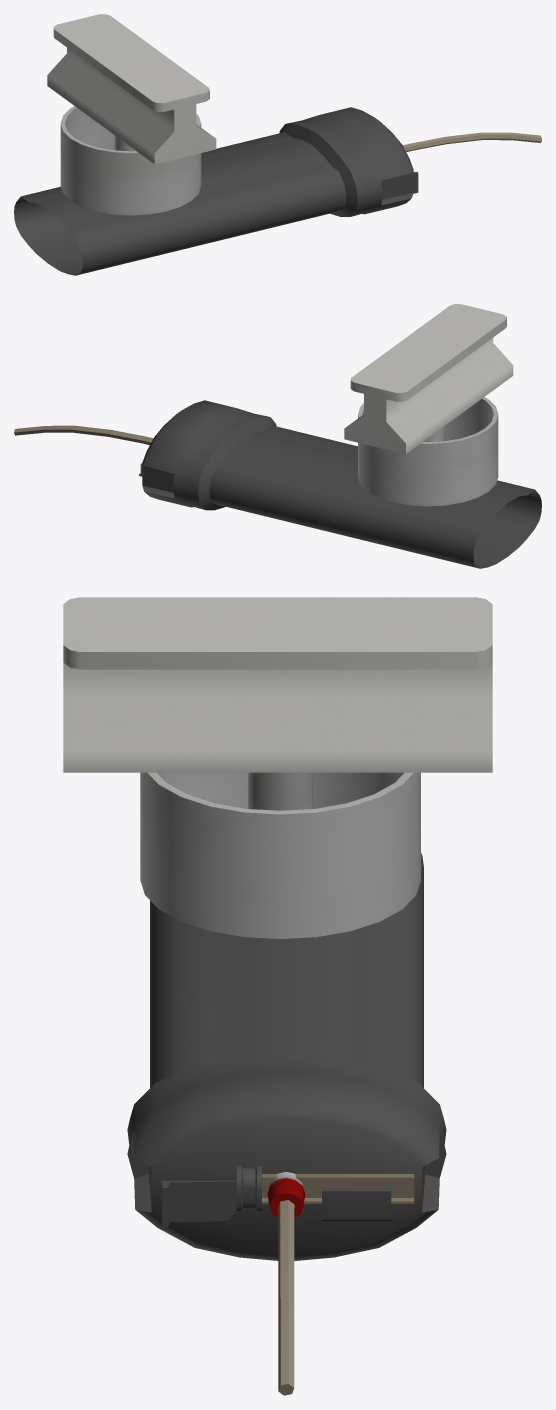
File: SM_光谱仪_燃烧头.FBX
The picture shows the model from 3 angles, top to bottom: view 1: azimuth 30°, elevation 25°; view 2: azimuth 150°, elevation 25°; view 3: azimuth 270°, elevation 25°; orthographic projection. The views are drawn at different scales.
Visible parts, largest first — view 1: SM_光谱仪_燃烧头; view 2: SM_光谱仪_燃烧头; view 3: SM_光谱仪_燃烧头.
Boxes of the visible parts, box(x1,y1,x2,y2) form: SM_光谱仪_燃烧头: box(14, 14, 541, 275); SM_光谱仪_燃烧头: box(14, 304, 541, 568); SM_光谱仪_燃烧头: box(63, 597, 492, 1395).
Bounding box in the file's own units: 0.3934 × 0.1522 × 0.1485.
